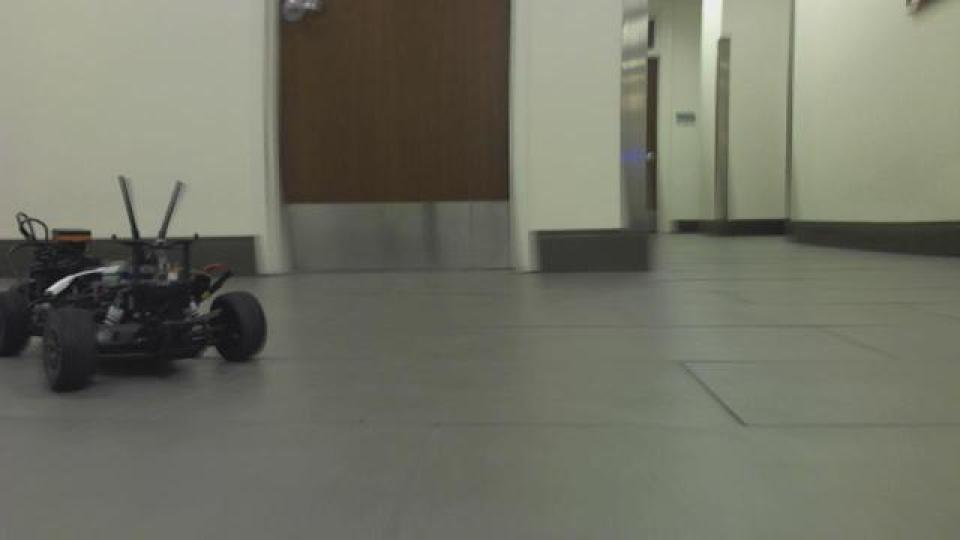car: (2, 173, 270, 395)
